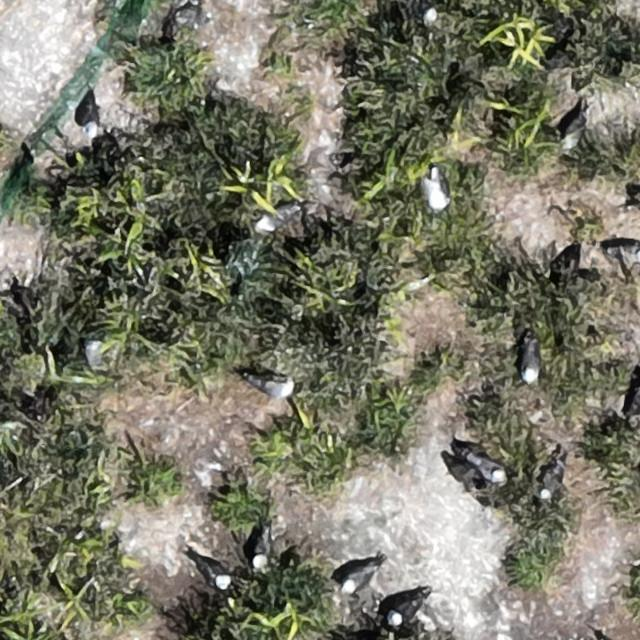umineko: (251, 530, 274, 571), (251, 378, 293, 398), (342, 566, 371, 592), (472, 457, 502, 482), (426, 175, 446, 212), (390, 599, 418, 625), (562, 115, 584, 148), (521, 343, 539, 383), (541, 464, 561, 498), (203, 563, 229, 588), (256, 216, 286, 233), (84, 105, 99, 137), (84, 341, 100, 367)
